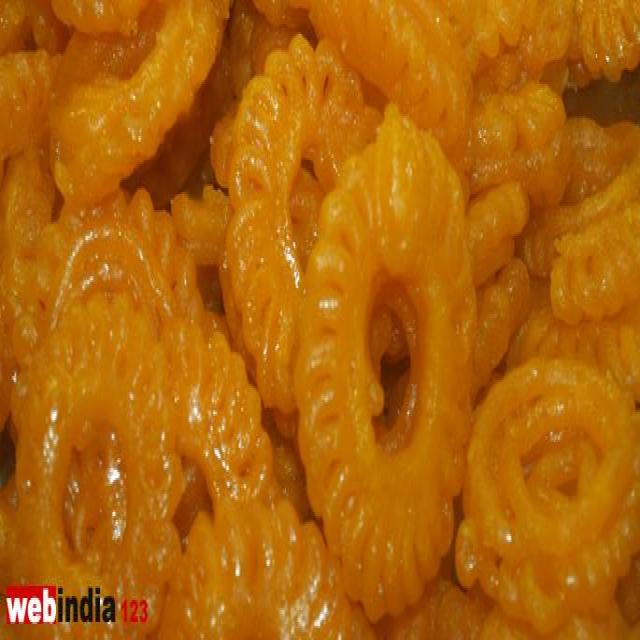jalebi: (2, 10, 640, 612)
